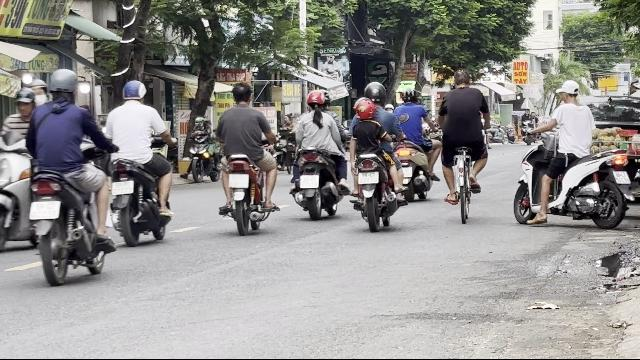helmet: (46, 68, 80, 102), (120, 79, 146, 103), (362, 80, 386, 104), (13, 88, 34, 114), (398, 81, 418, 103), (306, 90, 326, 110)
licenseplate: (30, 202, 60, 220), (112, 181, 134, 195), (229, 174, 249, 188), (612, 172, 632, 185), (358, 172, 378, 185), (300, 176, 320, 188)
motorcyclist: (23, 65, 113, 285), (512, 78, 636, 229), (102, 78, 176, 246), (213, 82, 280, 234), (287, 89, 349, 219), (346, 81, 400, 229), (1, 68, 34, 252), (392, 81, 440, 201)
nohelmet: (556, 80, 580, 104), (230, 82, 252, 106)
